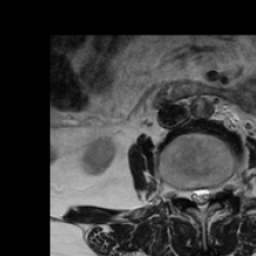CCS_normal: (196, 176, 204, 222)
LFS_normal: (214, 170, 224, 206)
LLS_normal: (204, 177, 214, 214)
RFS_normal: (180, 176, 188, 209)
RLS_normal: (188, 176, 196, 214)
